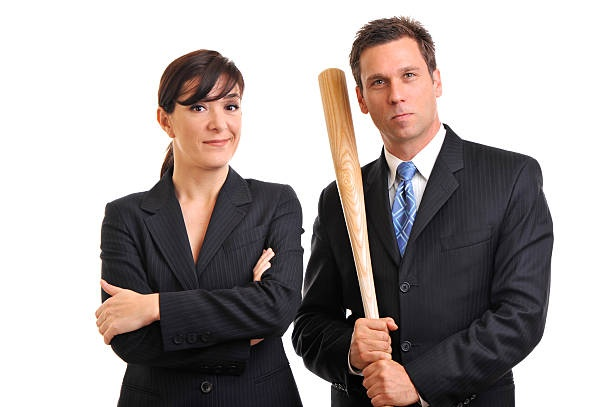bita: (315, 63, 394, 396)
